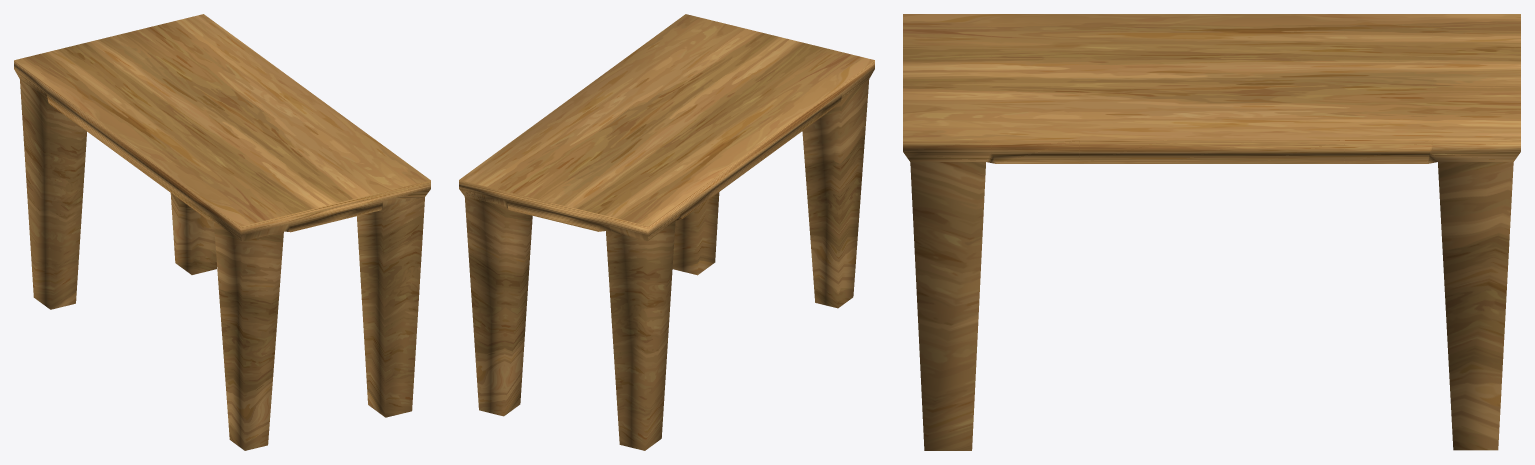
The model's file is Obj_vid_13_tauleta_tele_low_poly.fbx.
The picture shows the model from 3 angles, left to right: view 1: azimuth 30°, elevation 25°; view 2: azimuth 150°, elevation 25°; view 3: azimuth 270°, elevation 25°; orthographic projection. The views are drawn at different scales.
Visible parts, largest first — view 1: Obj_vid_13_tauleta_tele_low_poly; view 2: Obj_vid_13_tauleta_tele_low_poly; view 3: Obj_vid_13_tauleta_tele_low_poly.
Boxes of the visible parts, x1,y1,x2,y2 form: Obj_vid_13_tauleta_tele_low_poly: (14,14,430,450); Obj_vid_13_tauleta_tele_low_poly: (459,14,874,450); Obj_vid_13_tauleta_tele_low_poly: (903,14,1520,450).
Size of the model in its own units: 0.8596 by 1.01 by 1.78.
